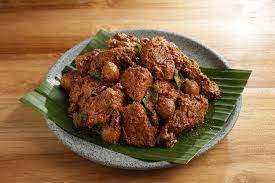rendang: (41, 26, 239, 157)
